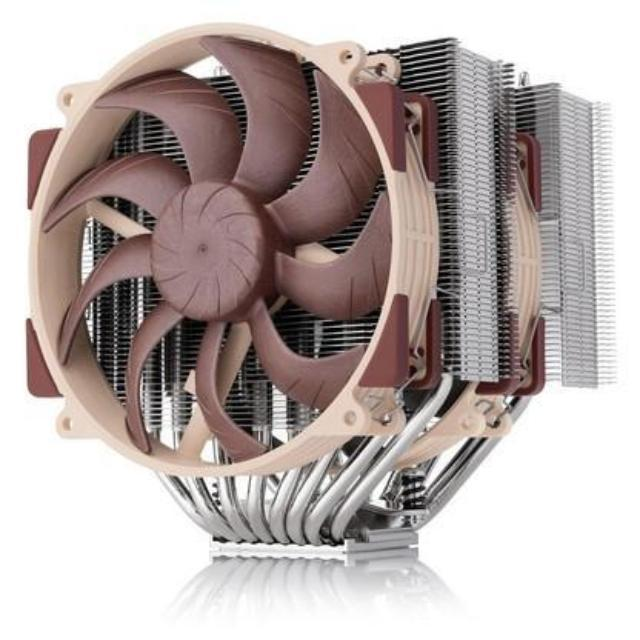CPU_Fan: (21, 25, 612, 570)
